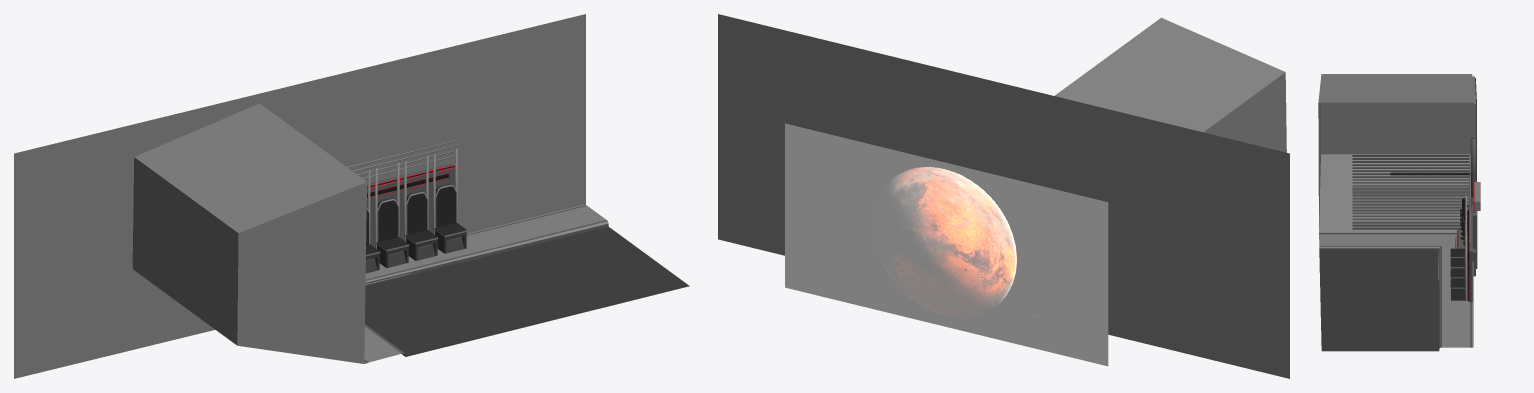
The model's file is IntroInterior.glb.
The picture shows the model from 3 angles, left to right: view 1: azimuth 30°, elevation 25°; view 2: azimuth 150°, elevation 25°; view 3: azimuth 270°, elevation 25°; orthographic projection. The views are drawn at different scales.
Visible parts, largest first — view 1: Cube.015; view 2: Cube.015; view 3: Cube.015.
Boxes of the visible parts, bbox=[...] form: Cube.015: bbox=[14, 14, 689, 378]; Cube.015: bbox=[718, 14, 1289, 378]; Cube.015: bbox=[1318, 74, 1480, 351].
Size of the model in its own units: 15.86 by 6.12 by 6.68.
Materials: 3 (2 with a texture image).
